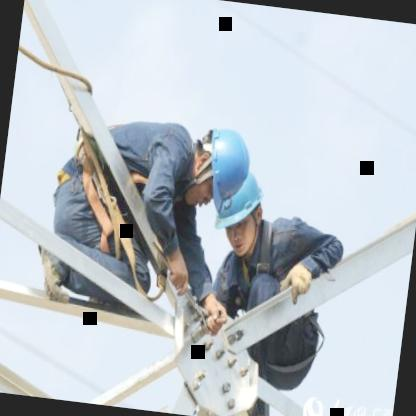helmet: (181, 120, 254, 209), (209, 164, 265, 260)
